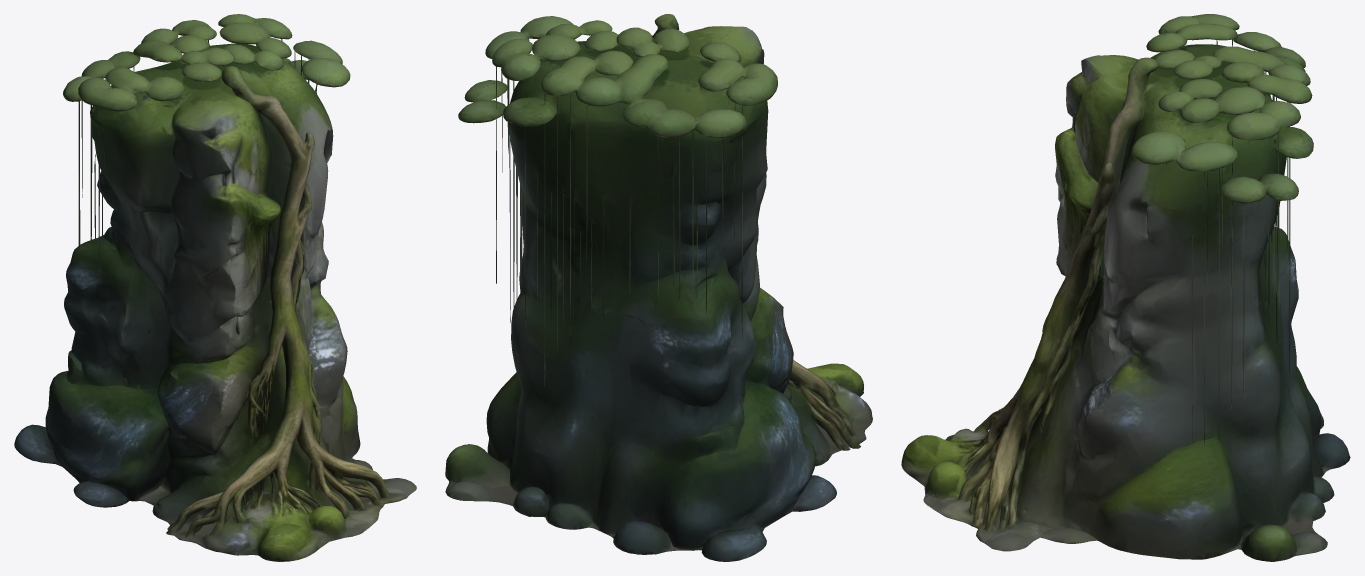
The model's file is cliff.glb.
3 views of the same model, side by side, from view 1: azimuth 30°, elevation 25°; view 2: azimuth 150°, elevation 25°; view 3: azimuth 270°, elevation 25° (orthographic). The views are drawn at different scales.
Visible parts, largest first — view 1: Cliff; view 2: Cliff; view 3: Cliff.
Part boxes in pixels (box(x1,y1,x2,y2)): Cliff: box(14, 14, 416, 561); Cliff: box(445, 14, 872, 561); Cliff: box(901, 14, 1350, 561).
Size of the model in its own units: 0.6201 by 0.8237 by 0.7778.
1 material, 1 textured.
